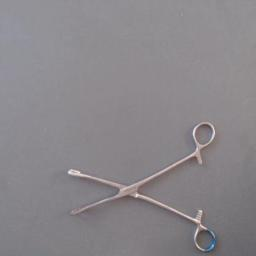Sponge Forceps: (59, 114, 219, 256)
